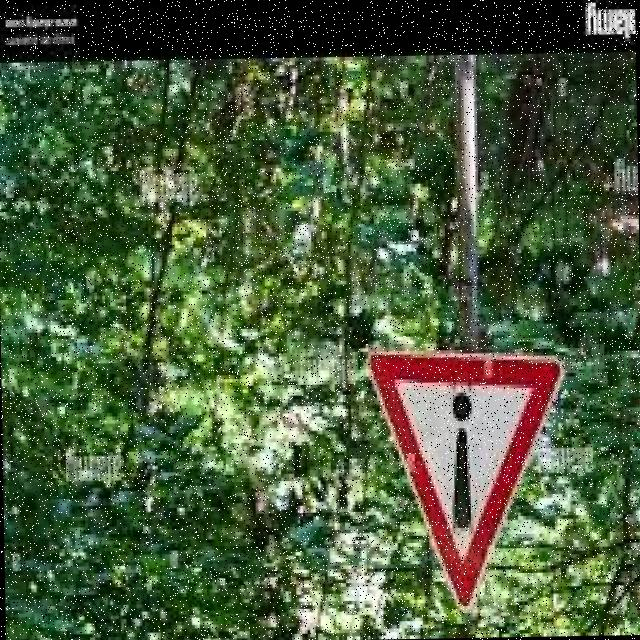warning: (362, 340, 573, 616)
